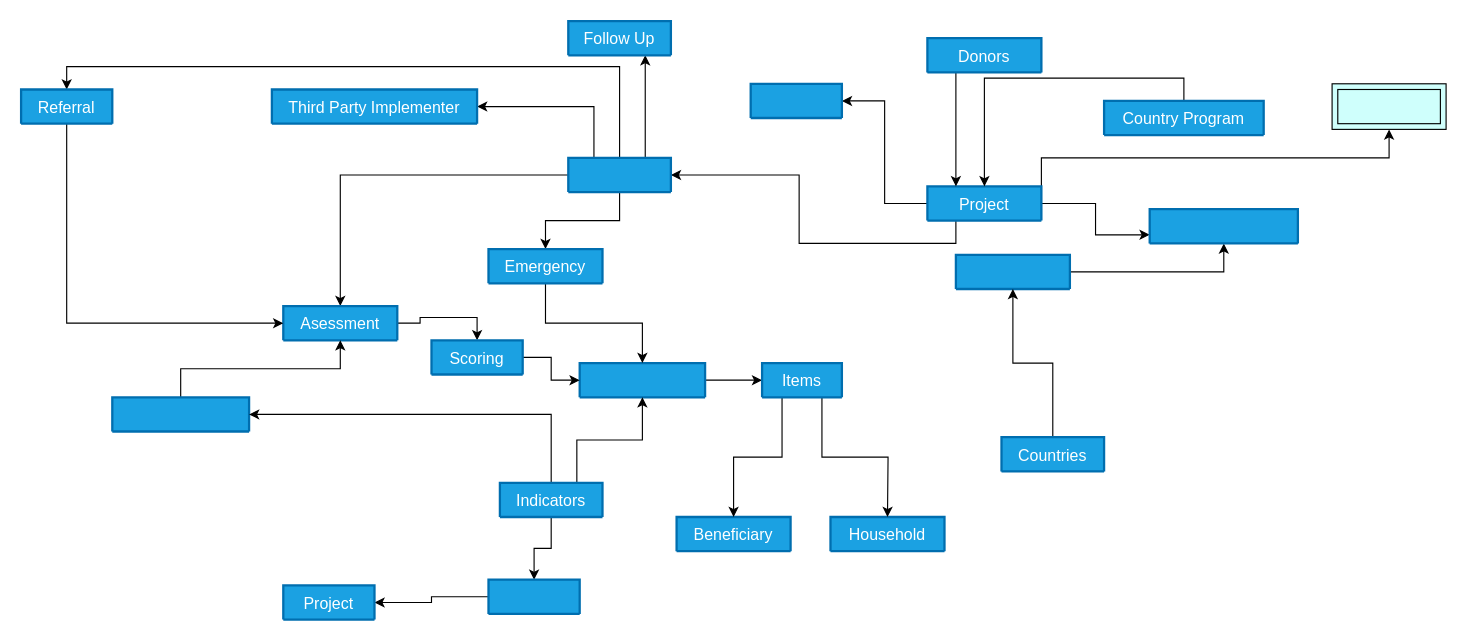
Image size: 1466x640. Some labels were removed from this diagram. The shapes that lost their labels are listed below. From the top down, each one's centre as x and y in pixels, then its label:
At point 795,100: "Sectors".
At point 1388,106: "SSIT".
At point 619,174: "Services".
At point 1223,225: "Project Location".
At point 1012,271: "Regions".
At point 642,379: "Distributions".
At point 180,414: "Questionnaire".
At point 533,596: "Results".
